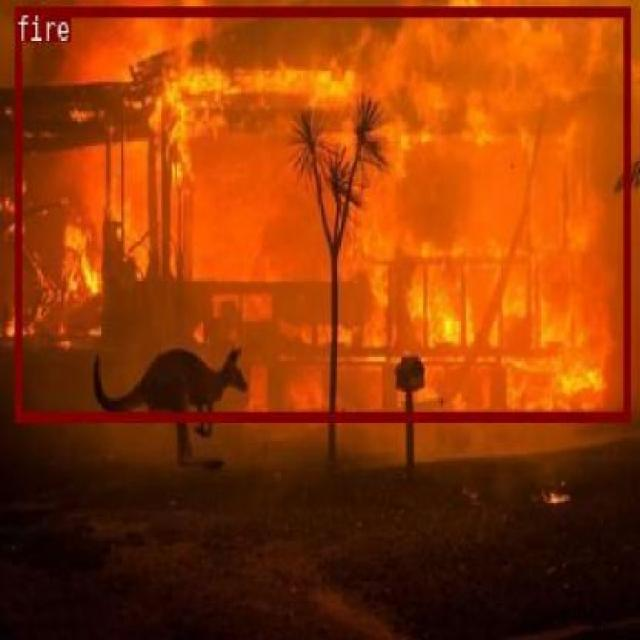fire: (13, 6, 630, 420)
